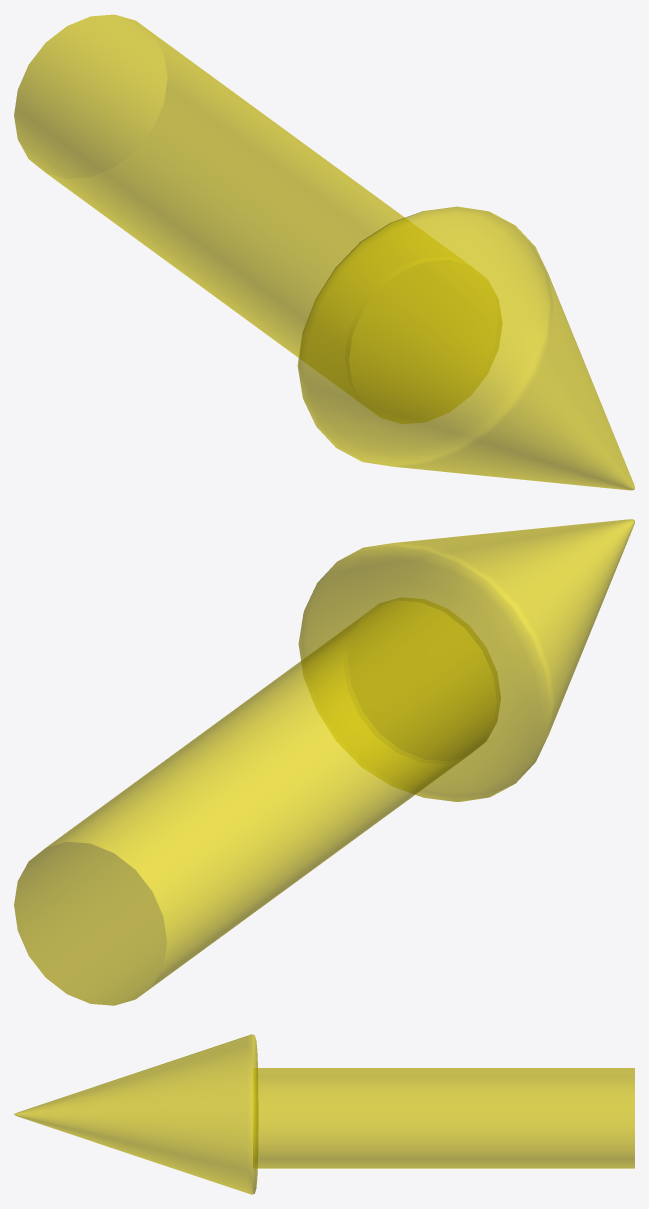
The model's file is arrow_trans_straight.fbx.
3 renders of one model, top to bottom at view 1: azimuth 30°, elevation 25°; view 2: azimuth 150°, elevation 25°; view 3: azimuth 270°, elevation 25°, orthographic. The views are drawn at different scales.
Visible parts, largest first — view 1: polySurface1; view 2: polySurface1; view 3: polySurface1.
Boxes of the visible parts, left/top/right/bottom form: polySurface1: left=14, top=14, right=634, bottom=490; polySurface1: left=14, top=519, right=634, bottom=1005; polySurface1: left=14, top=1034, right=634, bottom=1194.
Size of the model in its own units: 1.35 by 1.28 by 5.01.
